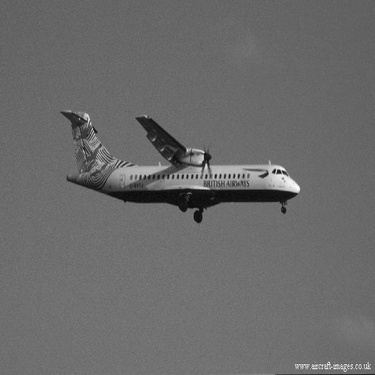airplane: (47, 98, 311, 240)
